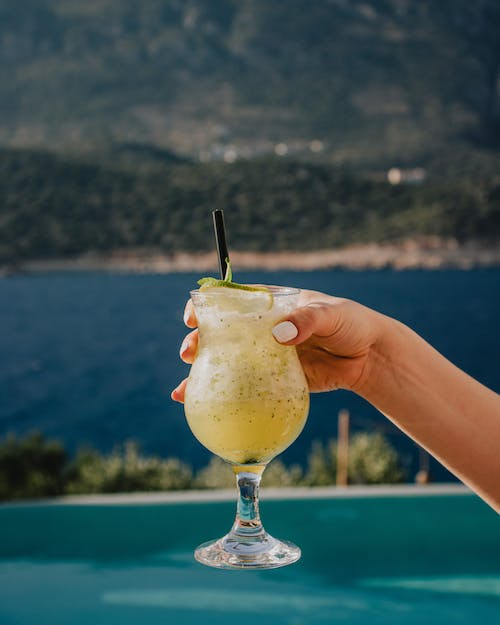alcohol: (181, 284, 311, 571)
